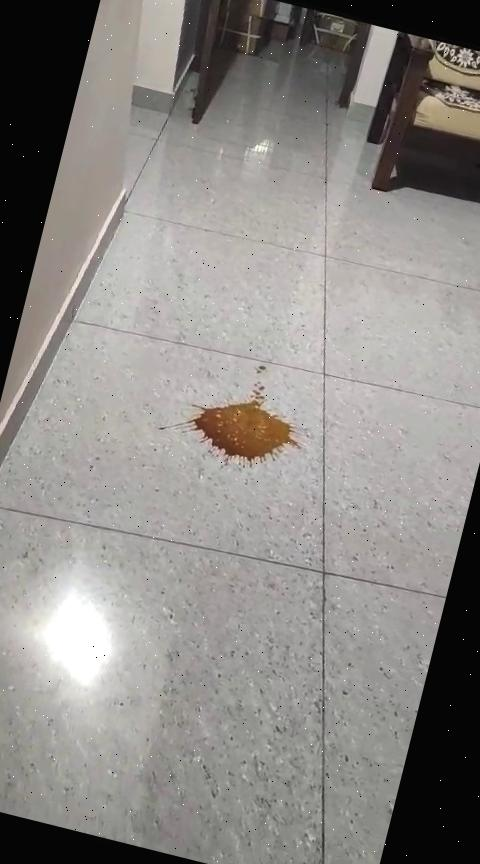dirty_floor: (154, 341, 315, 480)
